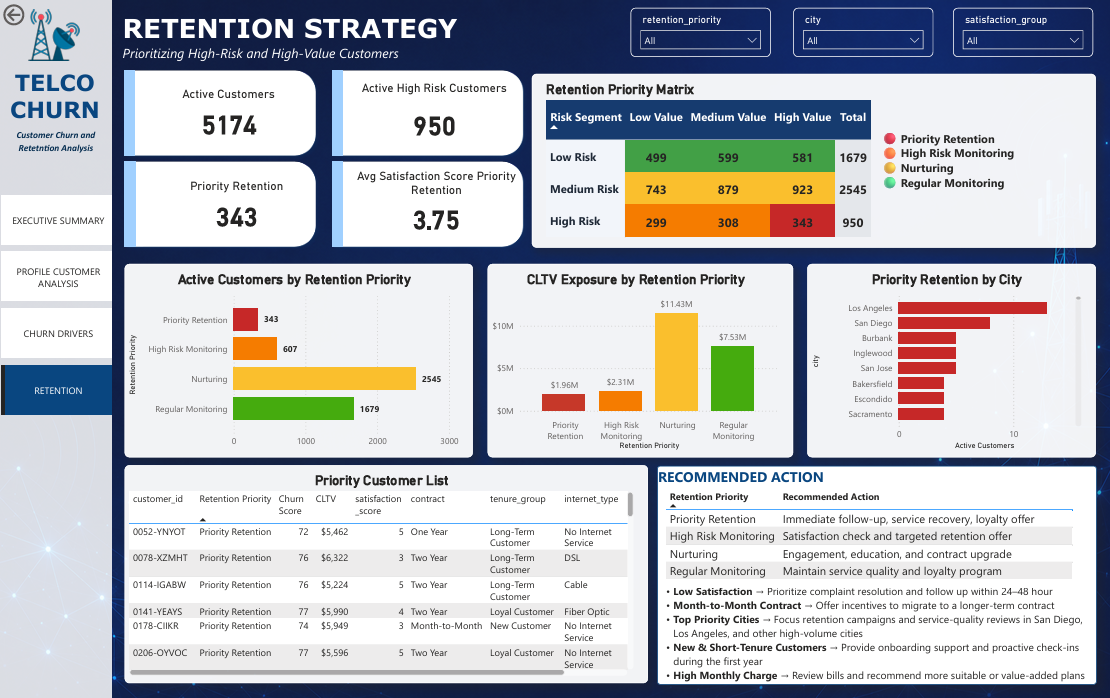

The page's visual inventory and layout, read from the dashboard file:
{"tool":"powerbi","page":{"name":"RETENTION","canvas":[1600,1000],"ordinal":3},"visuals":[{"type":"shape","box":[465.8,220,290,140],"z":0},{"type":"card","title":"Avg Satisfaction Score Priority Retention","fields":{"Values":["Avg(telco_churn_final_analysis.satisfaction_score)"]},"box":[487,229.8,253.9,122],"z":1000},{"type":"barChart","title":"Active Customers by Retention Priority","fields":{"Category":["Dim Retention Priority.Retention Priority"],"Y":["telco_churn_final_analysis.Active Customers"]},"box":[178.3,375.4,497.1,275.4],"z":2000},{"type":"textbox","box":[170,10,1394,100],"z":3000},{"type":"clusteredColumnChart","title":"CLTV Exposure by Retention Priority","fields":{"Y":["Sum(telco_churn_final_analysis.cltv)"],"Category":["Dim Retention Priority.Retention Priority"]},"box":[695.7,375.4,436.2,275.4],"z":4000},{"type":"pivotTable","title":"Retention Priority Matrix","fields":{"Rows":["Dim Risk Segment.Risk Segment"],"Columns":["Dim CLTV Segment.CLTV Segment"],"Values":["telco_churn_final_analysis.Active Customers"]},"box":[759.4,104.3,804.3,247.8],"z":5000},{"type":"tableEx","title":"Priority Customer List","fields":{"Values":["telco_churn_final_analysis.customer_id","Dim Retention Priority.Retention Priority","telco_churn_final_analysis.churn_score","Sum(telco_churn_final_analysis.cltv)","telco_churn_final_analysis.satisfaction_score","telco_churn_final_analysis.contract","telco_churn_final_analysis.tenure_group","telco_churn_final_analysis.internet_type","telco_churn_final_analysis.monthly_charge_group"]},"box":[178.3,661.7,746.7,311.7],"z":6000},{"type":"barChart","title":"Priority Retention by City","fields":{"Category":["telco_churn_loc.city"],"Y":["telco_churn_final_analysis.Active Customers"]},"box":[1152.2,375.4,411.6,275.4],"z":7000},{"type":"shape","box":[0,0,160,1000],"z":8000},{"type":"image","box":[27.1,12.9,100,72.9],"z":9000},{"type":"textbox","box":[1.4,91.4,154.3,104.3],"z":10000},{"type":"pageNavigator","box":[1.5,277.5,158.3,316.7],"z":11000},{"type":"textbox","box":[2.9,177.1,154.3,54.3],"z":12000},{"type":"shape","box":[170,90,290,140],"z":13000},{"type":"actionButton","box":[0,0,100,40],"z":14000},{"type":"card","title":"Active Customers","fields":{"Values":["telco_churn_final_analysis.Total Customers"]},"box":[189.5,111.7,256.3,104.6],"z":15000},{"type":"textbox","box":[1253.6,179.7,226.1,101.4],"z":16000},{"type":"shape","box":[466,90,290,140],"z":17000},{"type":"card","title":"Active High Risk Customers","fields":{"Values":["telco_churn_final_analysis.Total Customers"]},"box":[483.8,103.7,254,124],"z":18000},{"type":"shape","box":[178.4,99.2,15,122],"z":19000},{"type":"shape","box":[185.7,230.7,19.3,119.3],"z":20000},{"type":"shape","box":[170,220,290,140],"z":21000},{"type":"card","title":"Priority Retention","fields":{"Values":["telco_churn_final_analysis.Total Customers"]},"box":[202,244.4,254,102.5],"z":22000},{"type":"shape","box":[178.4,229,15.2,122],"z":23000},{"type":"shape","box":[475,229.2,15.2,122],"z":24000},{"type":"shape","box":[475,99,15.2,122],"z":25000},{"type":"textbox","title":"RECOMMENDED ACTION","box":[938.3,663.3,626.7,311.7],"z":26000},{"type":"tableEx","fields":{"Values":["Dim Retention Priority.Retention Priority","Recom.Recommended Action"]},"box":[945,691.7,615,145],"z":27000},{"type":"slicer","fields":{"Values":["telco_churn_final_analysis.retention_priority"]},"box":[900,10,200,70],"z":27001},{"type":"slicer","fields":{"Values":["telco_churn_loc.city"]},"box":[1131.7,10,200,70],"z":27002},{"type":"slicer","fields":{"Values":["telco_churn_final_analysis.satisfaction_group"]},"box":[1360,10,200,70],"z":27003}]}

Visuals, with their boxes on the page's 1600x1000 design canvas (x1, y1, x2, y2). These are canvas units, not pixel positions in the 1110x698 screenshot, which may show the page scaled, cropped or inside an application window:
shape: box(466, 220, 756, 360)
"Avg Satisfaction Score Priority Retention" card: box(487, 230, 741, 352)
"Active Customers by Retention Priority" barChart: box(178, 375, 675, 651)
textbox: box(170, 10, 1564, 110)
"CLTV Exposure by Retention Priority" clusteredColumnChart: box(696, 375, 1132, 651)
"Retention Priority Matrix" pivotTable: box(759, 104, 1564, 352)
"Priority Customer List" tableEx: box(178, 662, 925, 973)
"Priority Retention by City" barChart: box(1152, 375, 1564, 651)
shape: box(0, 0, 160, 1000)
image: box(27, 13, 127, 86)
textbox: box(1, 91, 156, 196)
pageNavigator: box(2, 278, 160, 594)
textbox: box(3, 177, 157, 231)
shape: box(170, 90, 460, 230)
actionButton: box(0, 0, 100, 40)
"Active Customers" card: box(190, 112, 446, 216)
textbox: box(1254, 180, 1480, 281)
shape: box(466, 90, 756, 230)
"Active High Risk Customers" card: box(484, 104, 738, 228)
shape: box(178, 99, 193, 221)
shape: box(186, 231, 205, 350)
shape: box(170, 220, 460, 360)
"Priority Retention" card: box(202, 244, 456, 347)
shape: box(178, 229, 194, 351)
shape: box(475, 229, 490, 351)
shape: box(475, 99, 490, 221)
"RECOMMENDED ACTION" textbox: box(938, 663, 1565, 975)
tableEx - Dim Retention Priority.Retention Priority x Recom.Recommended Action: box(945, 692, 1560, 837)
slicer - telco_churn_final_analysis.retention_priority: box(900, 10, 1100, 80)
slicer - telco_churn_loc.city: box(1132, 10, 1332, 80)
slicer - telco_churn_final_analysis.satisfaction_group: box(1360, 10, 1560, 80)
